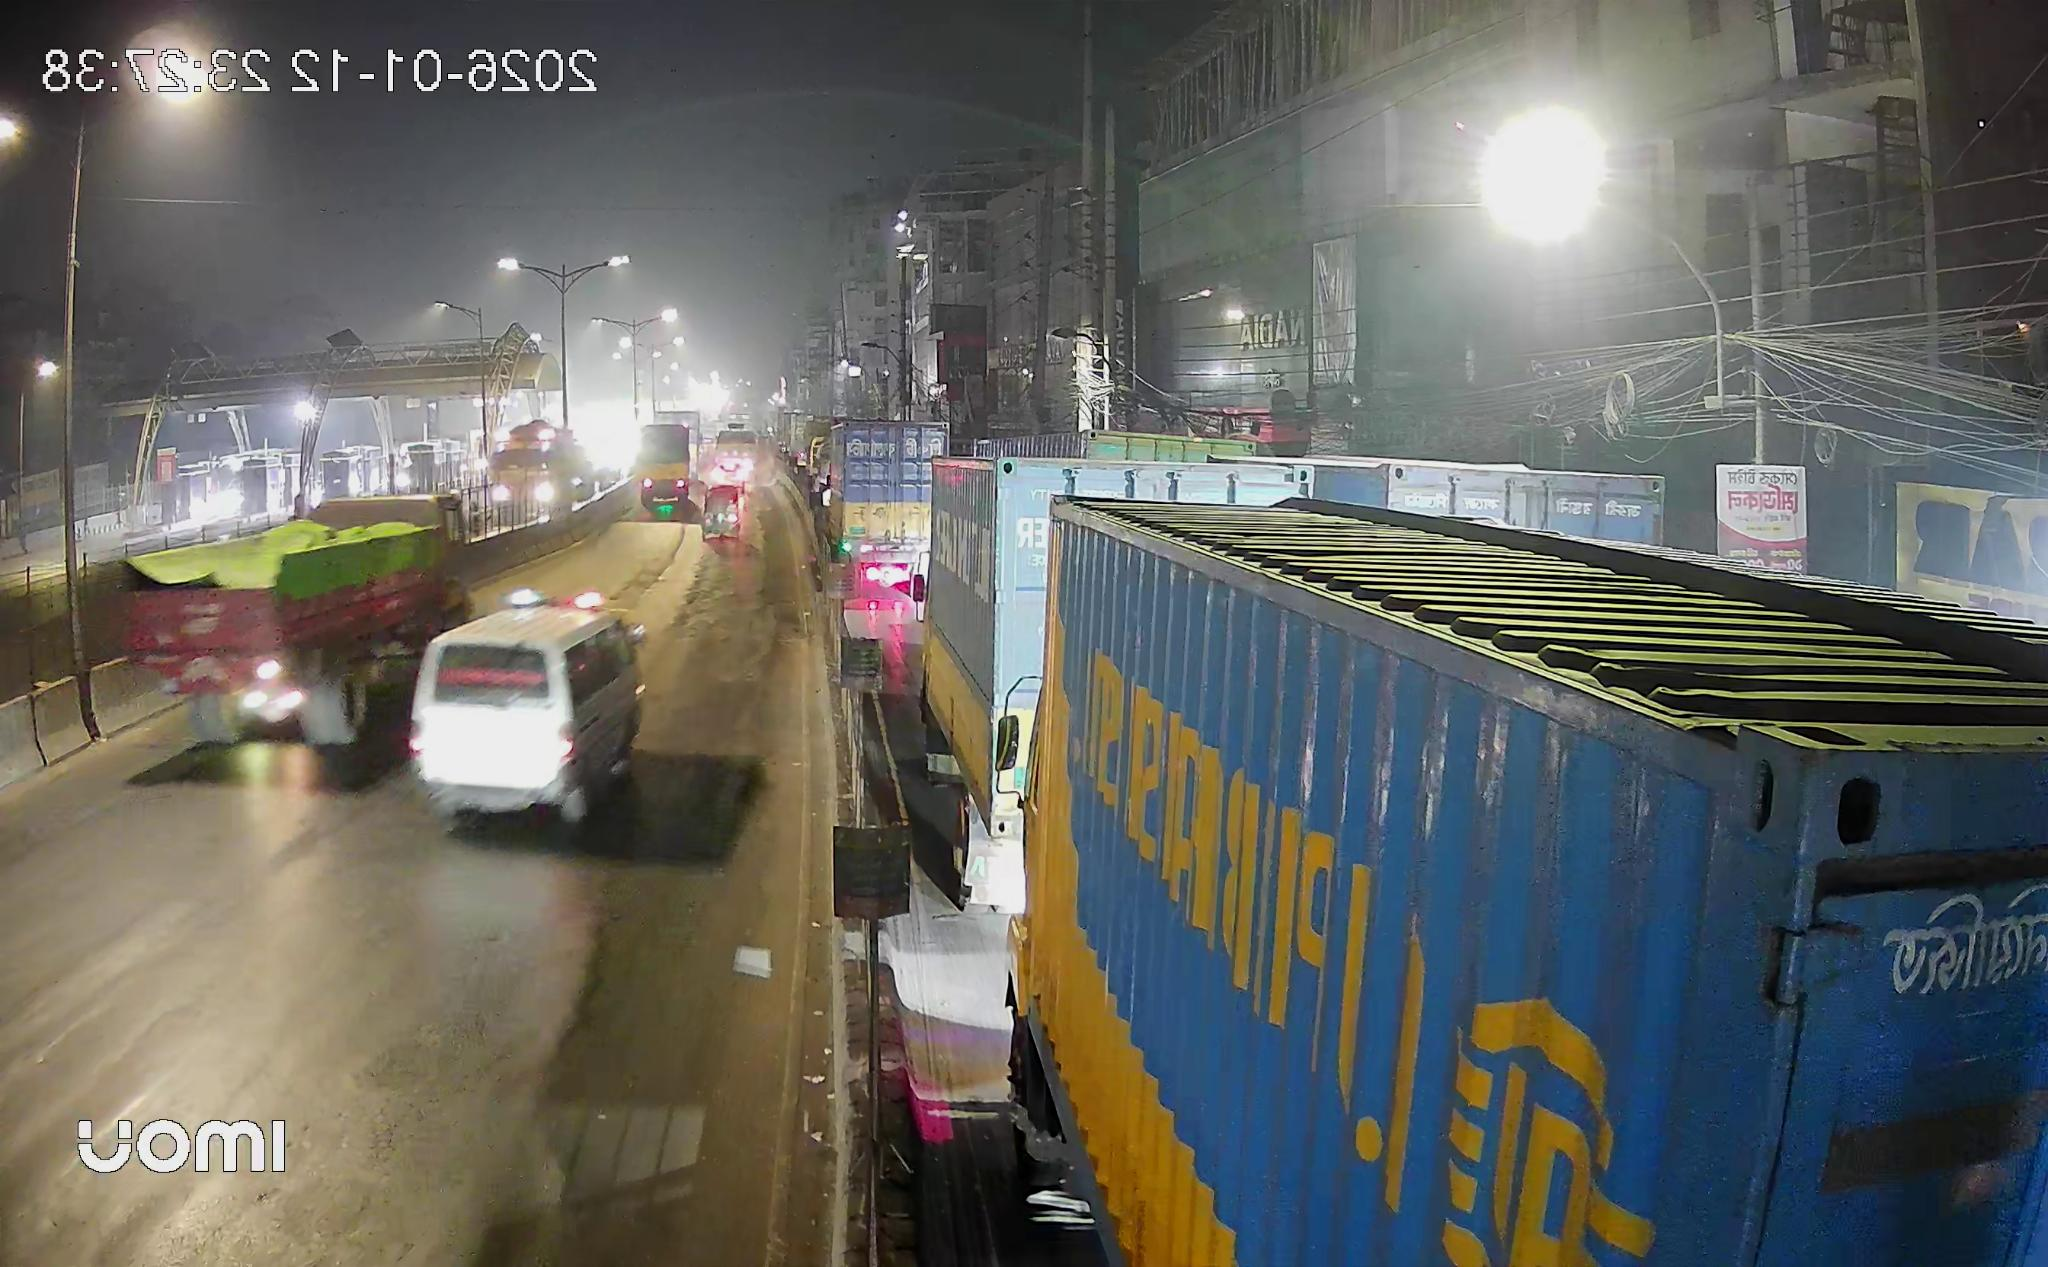CNG-Tempo: (702, 486, 745, 538)
Microbus: (411, 588, 645, 822)
Truck: (1014, 500, 2048, 1267), (925, 455, 1300, 913), (126, 493, 470, 746), (828, 420, 948, 623), (490, 420, 594, 509), (633, 411, 698, 512)
